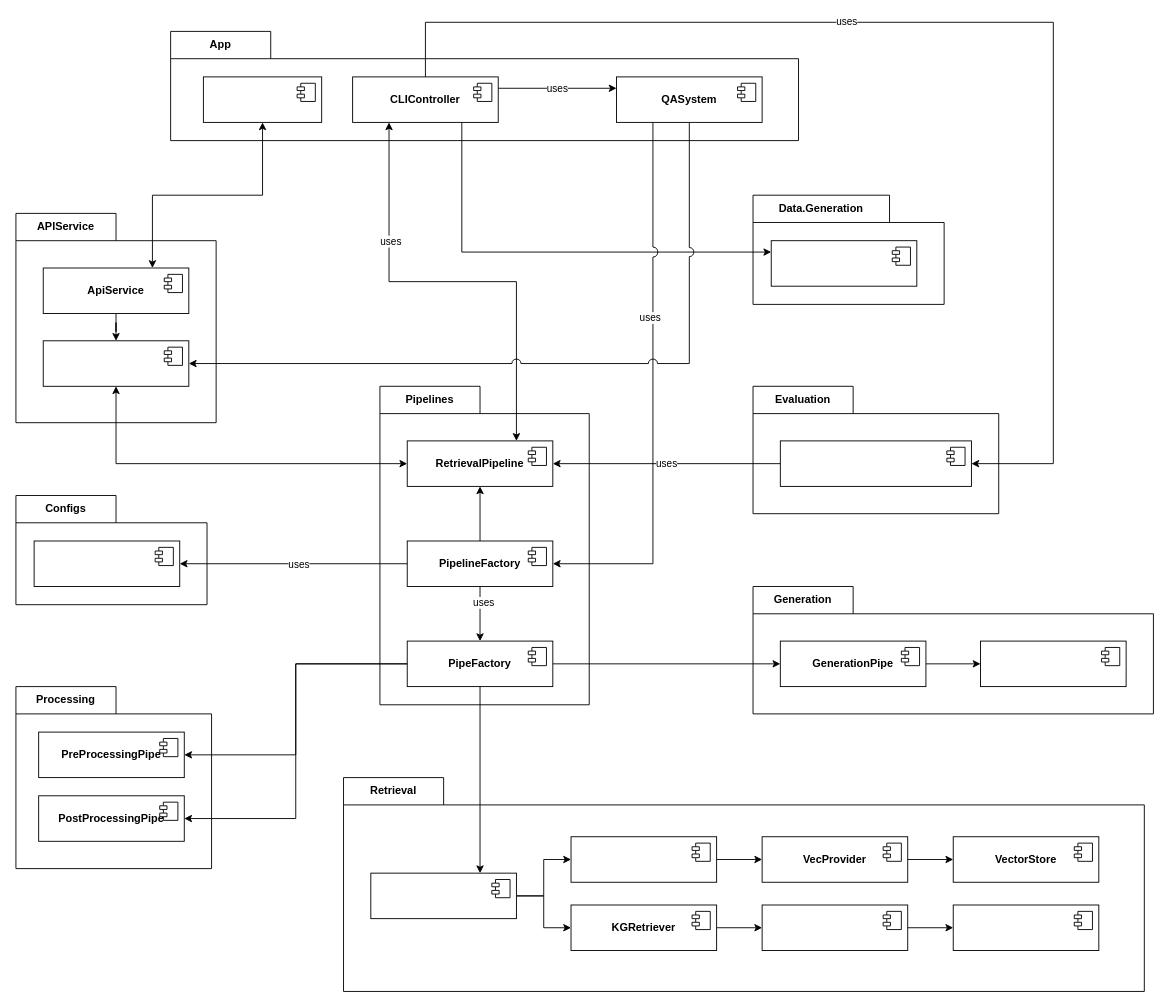
The diagram is 1169 pixels wide and 1007 high, and some of its shapes have lost their labels. The shapes that lost their labels are listed below. From the top down, each one's centre as x and y in pixels, then its label:
At point (262, 99): "Webserver".
At point (843, 263): "QAGenerator".
At point (115, 363): "QuestionRouter".
At point (875, 463): "PipelineEvaluator".
At point (106, 563): "PipelineConfig".
At point (1053, 663): "LLMProvider".
At point (643, 859): "VecRetriever".
At point (443, 895): "RetrievalPipe".
At point (834, 927): "KGProvider".
At point (1025, 927): "KnowledgeGraph".
